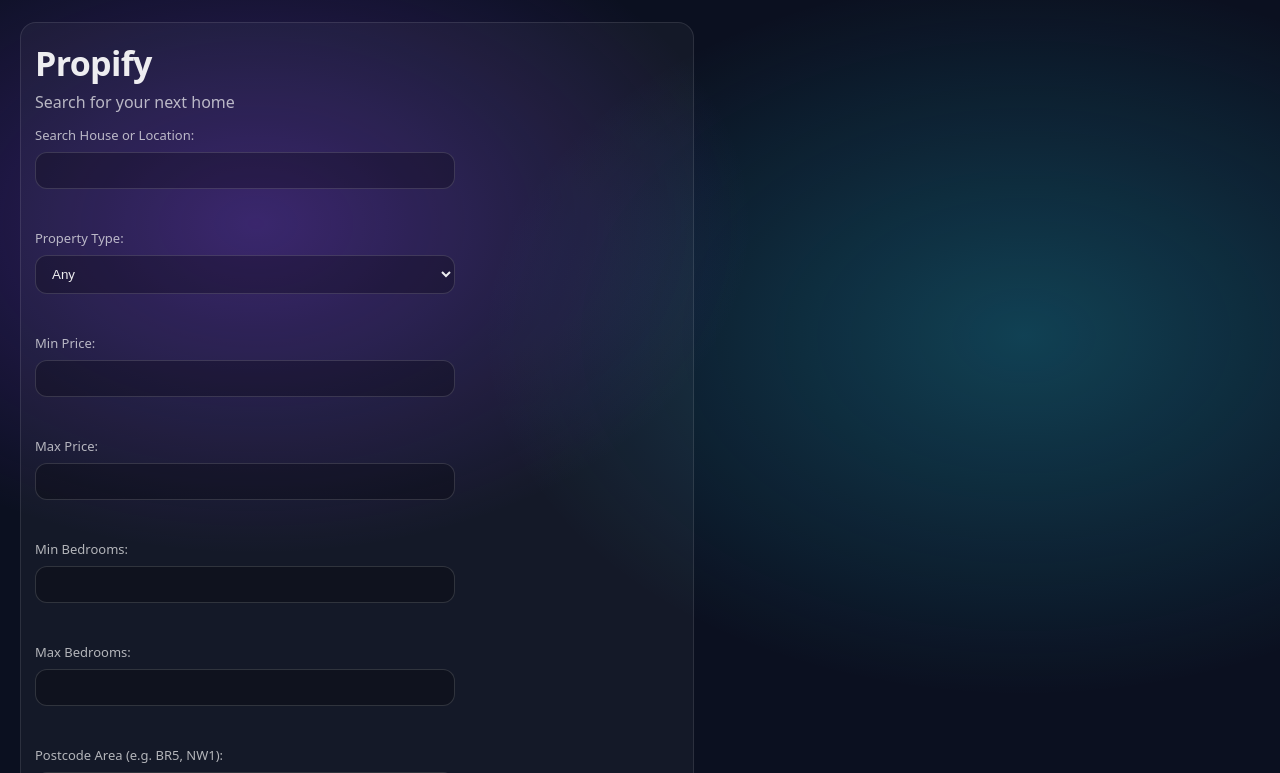
Test: filters by property type (House/Flat)
This screenshot has width=1280, height=773.
choose House
Select "House" in the dropdown labelled "Property Type:" at (245, 275), box [35,255,455,294]
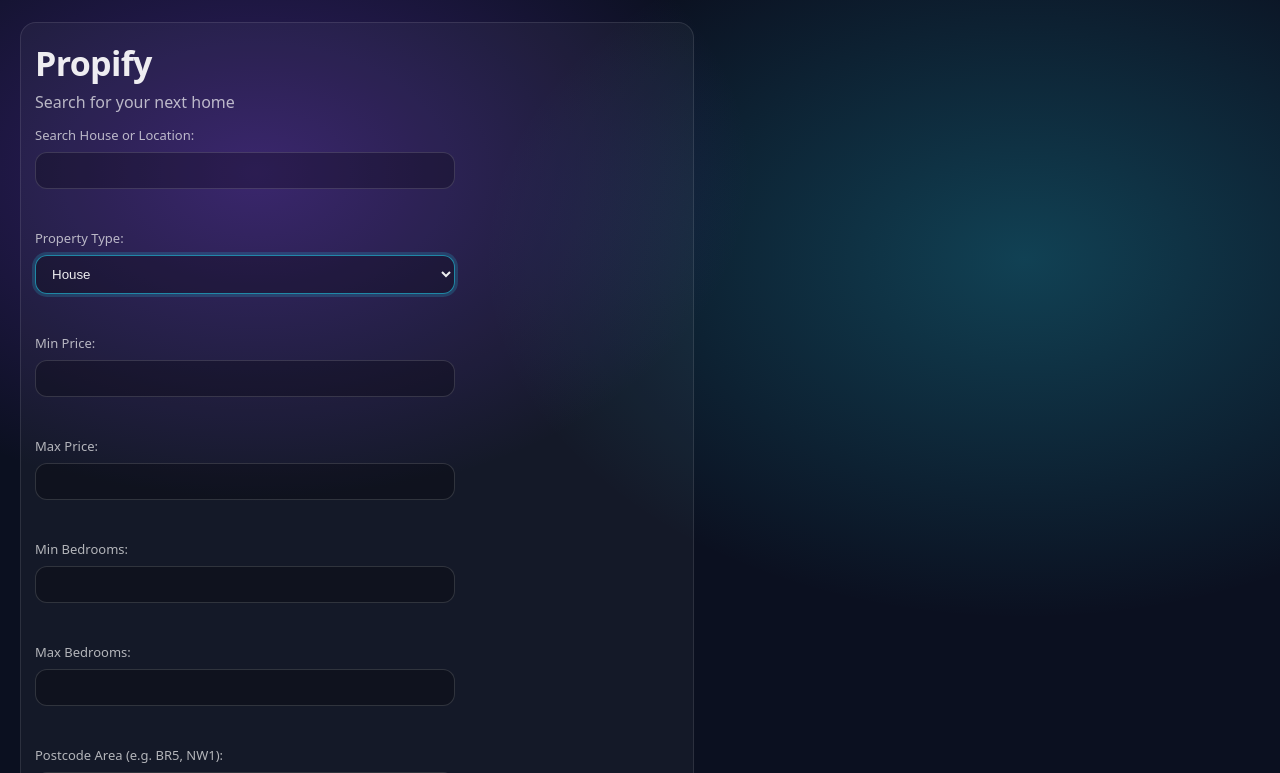
choose Flat
Select "Flat" in the dropdown labelled "Property Type:" at (245, 275), box [35,255,455,294]
(page scrolled)
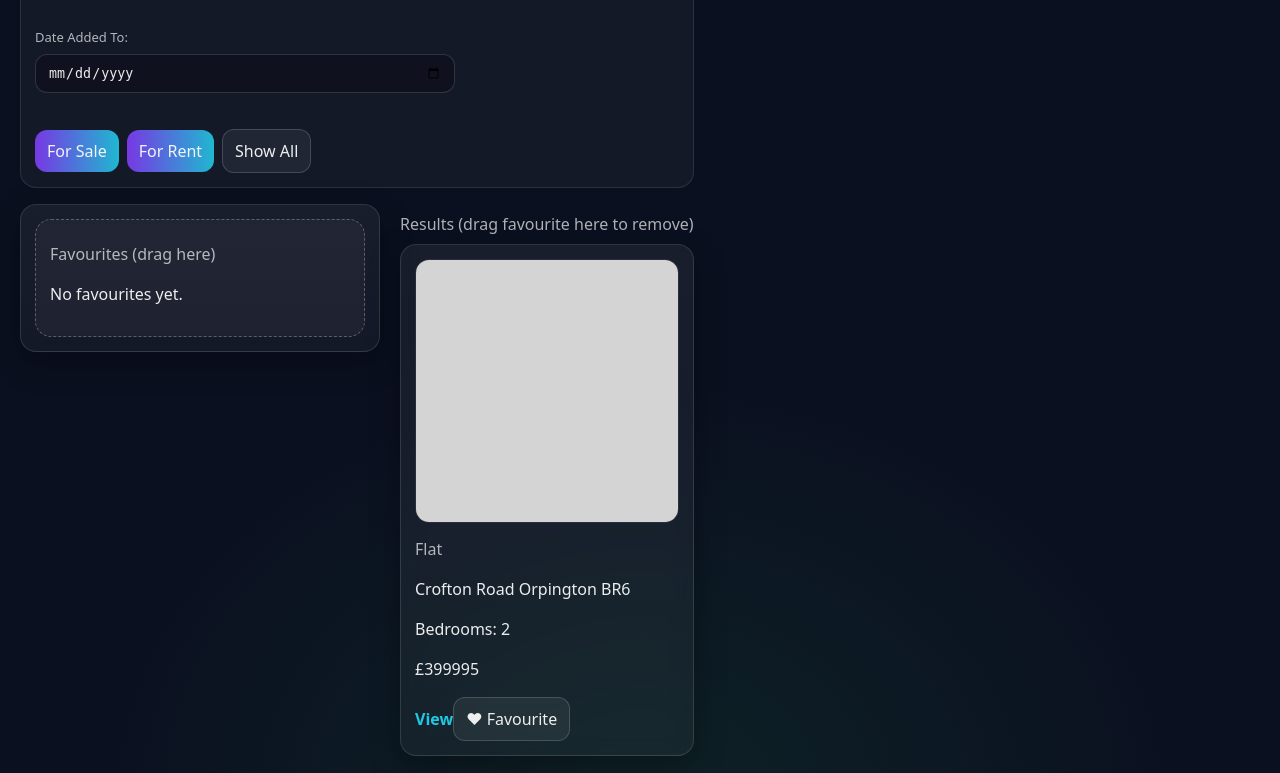
Now the text "Crofton Road Orpington BR6" is shown, box [415,578,630,600]
